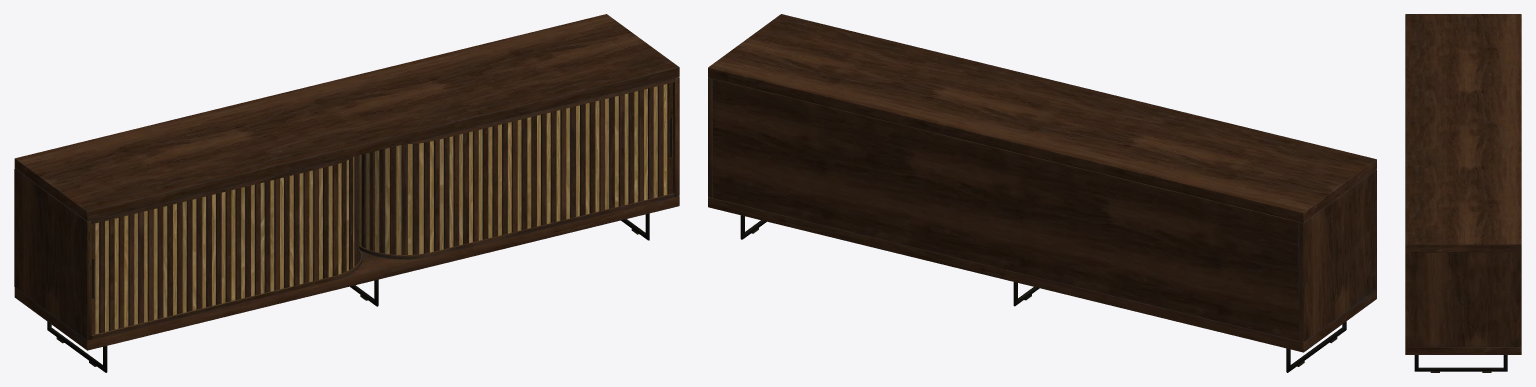
3 views of the same model, side by side, from view 1: azimuth 30°, elevation 25°; view 2: azimuth 150°, elevation 25°; view 3: azimuth 270°, elevation 25° (orthographic). The views are drawn at different scales.
Visible parts, largest first — view 1: modern_wooden_cabinet_body, modern_wooden_cabinet_door_r, modern_wooden_cabinet_door_l; view 2: modern_wooden_cabinet_body; view 3: modern_wooden_cabinet_body.
Part boxes in pixels (x1,y1,x2,y2): modern_wooden_cabinet_body: (14,14,679,372); modern_wooden_cabinet_door_r: (359,82,672,254); modern_wooden_cabinet_door_l: (91,155,359,334); modern_wooden_cabinet_body: (708,14,1376,372); modern_wooden_cabinet_body: (1405,14,1521,372).
Bounding box in the file's own units: 2.44 × 0.6802 × 0.5199.
Materials: 1 (1 with a texture image).
